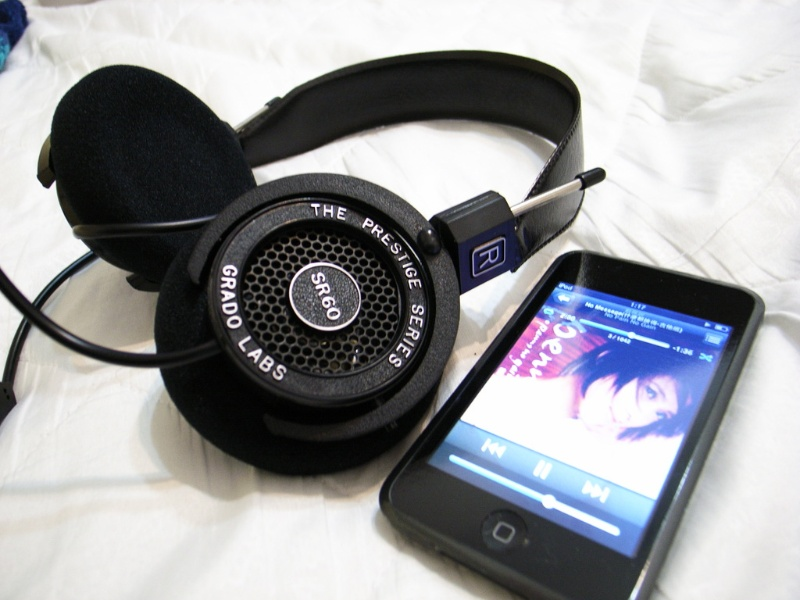cellphone: (395, 281, 763, 600)
